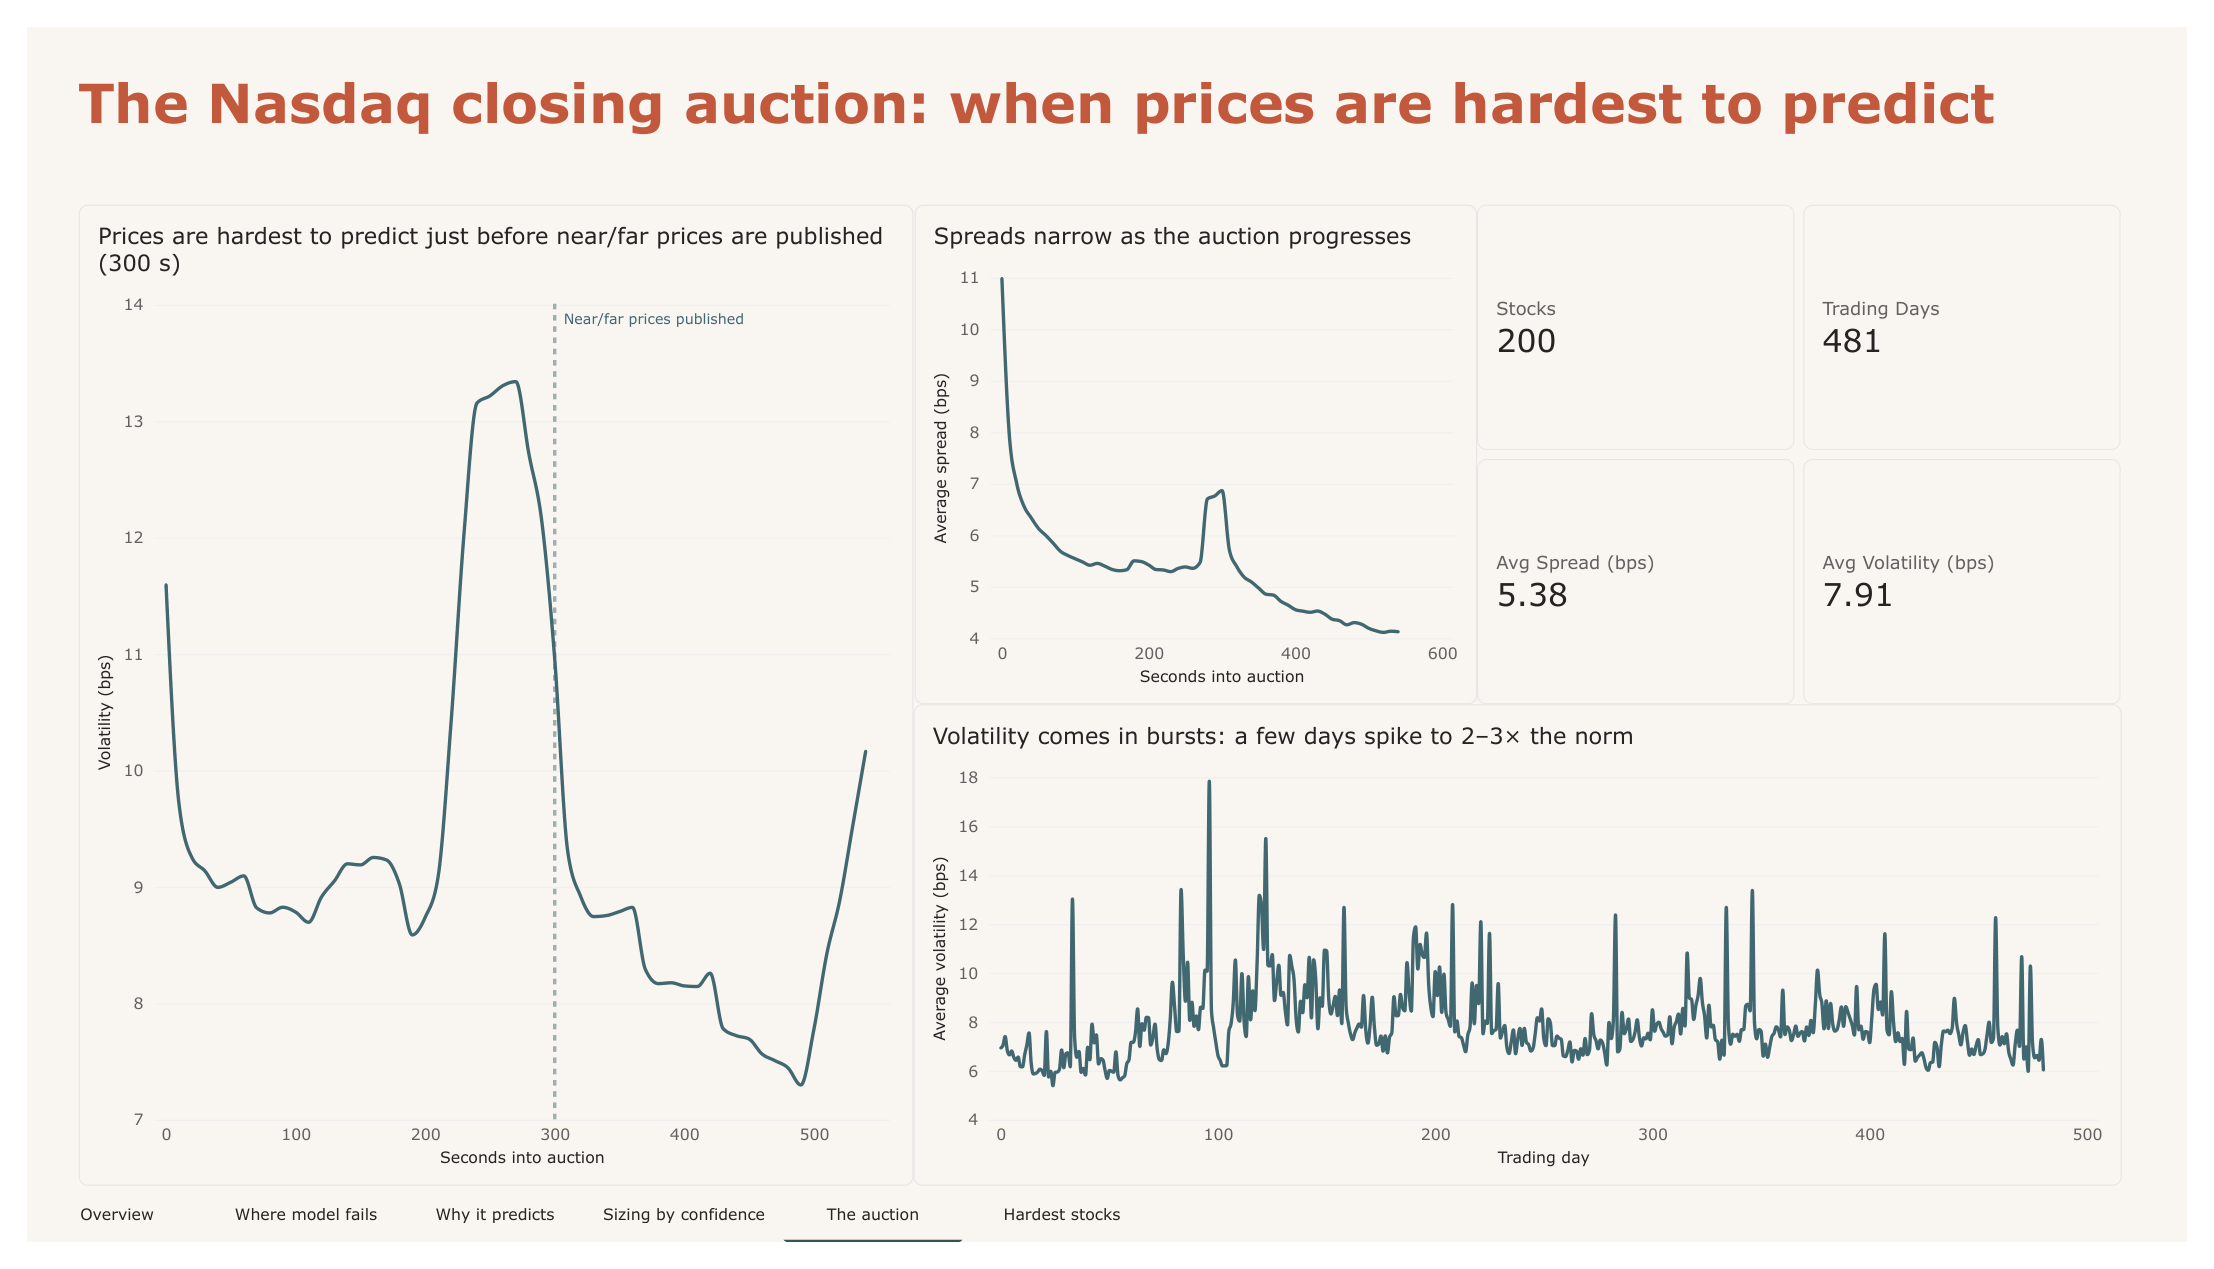

This screenshot's page, from the dashboard's own definition file:
{"tool":"powerbi","page":{"name":"The auction","canvas":[1920,1080],"ordinal":4},"visuals":[{"type":"cardVisual","fields":{"Data":["stock_day.Stocks","stock_day.Trading Days","stock_day.Avg Spread (bps)","stock_day.Avg Volatility (bps)"]},"box":[1288.7,158.5,573.6,443.4],"z":0},{"type":"lineChart","title":"Prices are hardest to predict just before near/far prices are published (300 s)","fields":{"Category":["auction_second.seconds_in_bucket"],"Y":["Avg(auction_second.target_std)"]},"box":[46,158,742,872],"z":1000},{"type":"lineChart","title":"Spreads narrow as the auction progresses","fields":{"Category":["auction_second.seconds_in_bucket"],"Y":["Sum(auction_second.mean_spread_bps)"]},"box":[788.7,158.5,500,443.4],"z":2000},{"type":"lineChart","title":"Volatility comes in bursts: a few days spike to 2–3× the norm","fields":{"Category":["stock_day.date_id"],"Y":["stock_day.Avg Volatility (bps)"]},"box":[788,602,1074,428],"z":3000},{"type":"textbox","box":[45.3,37,1755.8,84.4],"z":4000},{"type":"pageNavigator","box":[0,1030,1000,50],"z":4001}]}

Visuals, with their boxes in screenshot pixels (x1, y1, x2, y2), scaled from the page's 1920x1080 canvas onto the 2214x1269 screenshot:
cardVisual - stock_day.Stocks x stock_day.Trading Days: <box>1486,186,2147,707</box>
"Prices are hardest to predict just before near/far prices are published (300 s)" lineChart: <box>53,186,909,1210</box>
"Spreads narrow as the auction progresses" lineChart: <box>909,186,1486,707</box>
"Volatility comes in bursts: a few days spike to 2–3× the norm" lineChart: <box>909,707,2147,1210</box>
textbox: <box>52,43,2077,143</box>
pageNavigator: <box>0,1210,1153,1268</box>
